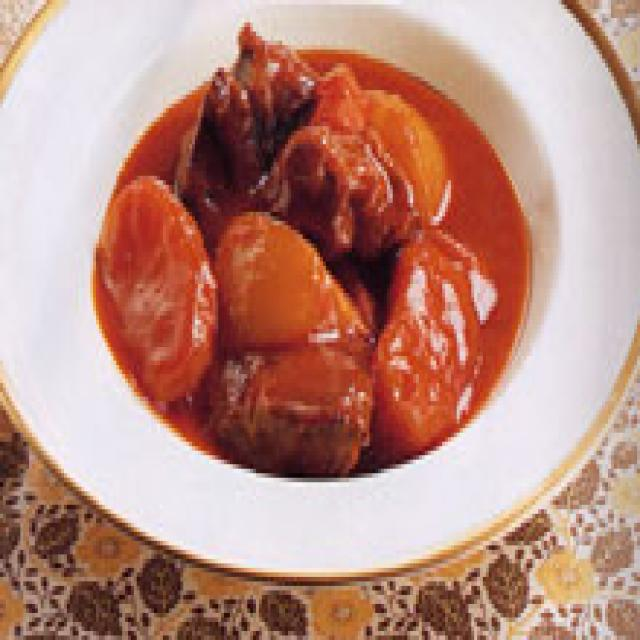汤锅炖物: (0, 0, 640, 581)
